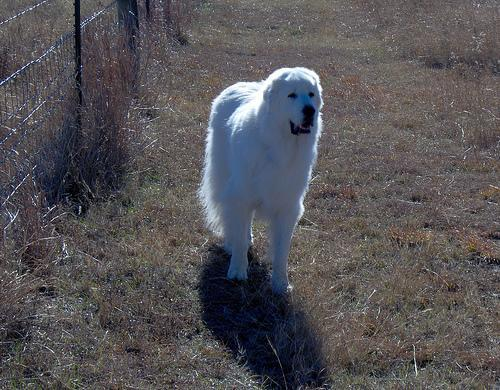Great_Pyrenees: (196, 62, 326, 297)
